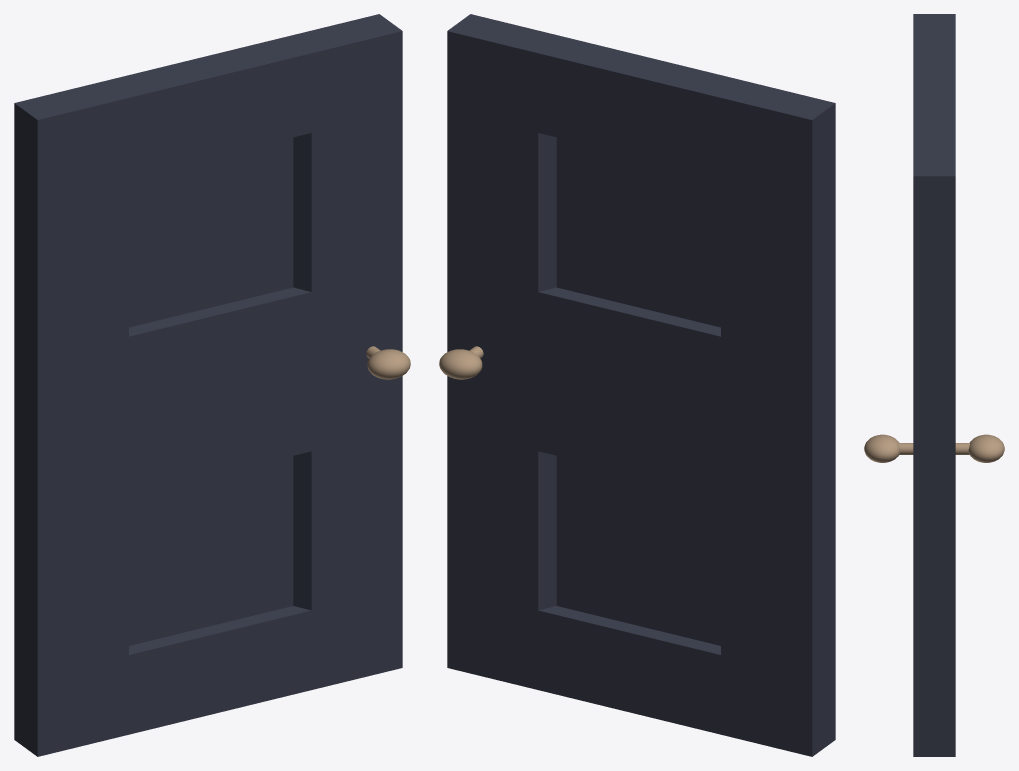
File: Door.fbx
3 renders of one model, left to right at view 1: azimuth 30°, elevation 25°; view 2: azimuth 150°, elevation 25°; view 3: azimuth 270°, elevation 25°, orthographic. The views are drawn at different scales.
Parts seen in each view (by area): view 1: pCube2; view 2: pCube2; view 3: pCube2.
Boxes of the visible parts, left/top/right/bottom form: pCube2: left=14, top=14, right=410, bottom=756; pCube2: left=439, top=14, right=835, bottom=756; pCube2: left=864, top=14, right=1004, bottom=756.
Size of the model in its own units: 6 by 10 by 2.2.
